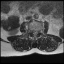CCS_stenosis: (34, 28, 36, 37)
LFS_normal: (38, 28, 40, 35)
LLS_normal: (36, 28, 38, 36)
RFS_normal: (30, 28, 32, 35)
RLS_normal: (32, 28, 34, 36)
